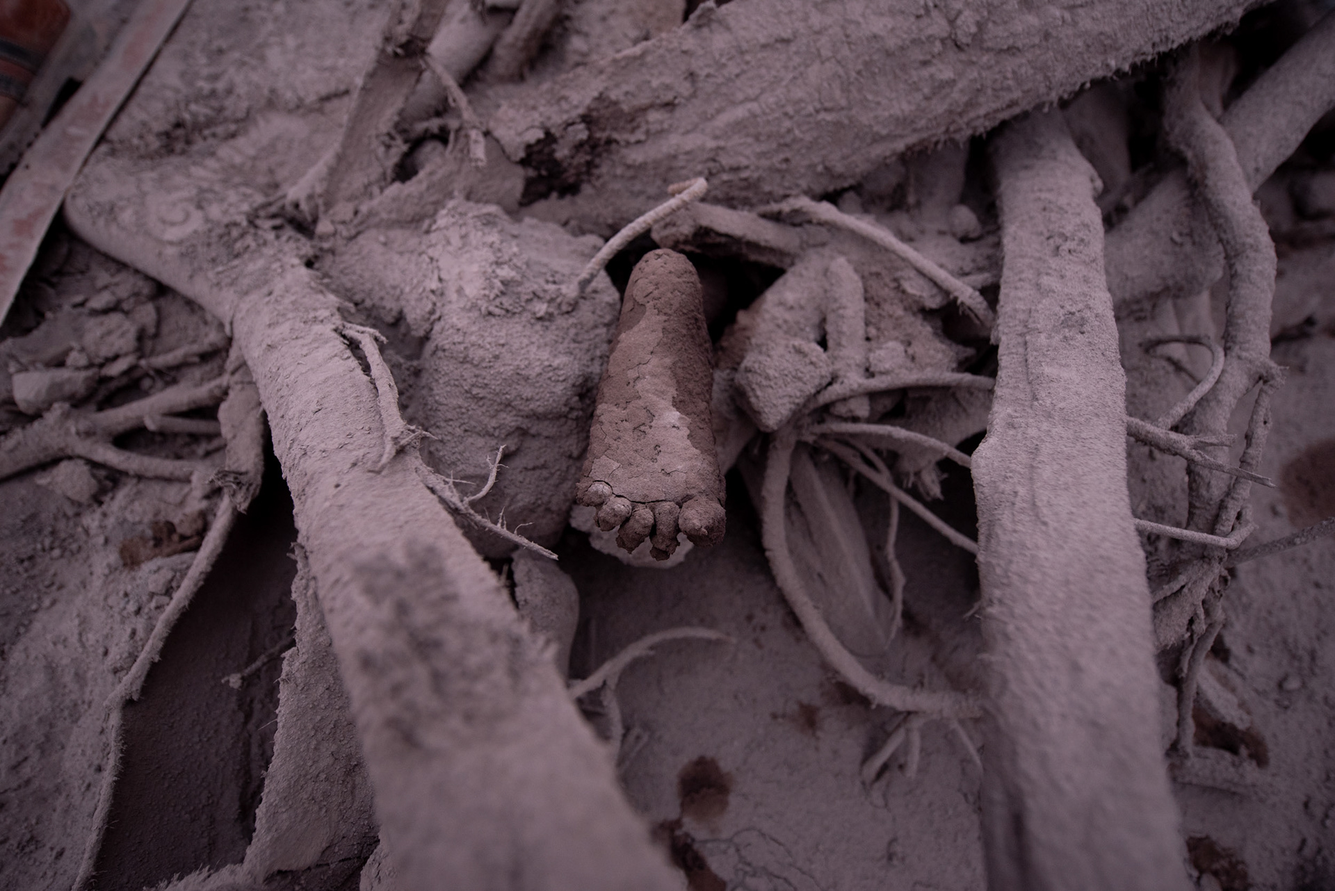Korban: (569, 249, 725, 564)
